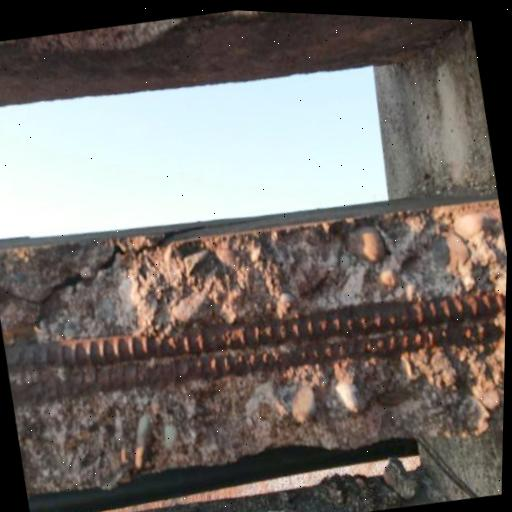exposed_rebar: (5, 291, 506, 390)
spalling: (0, 196, 507, 495)
